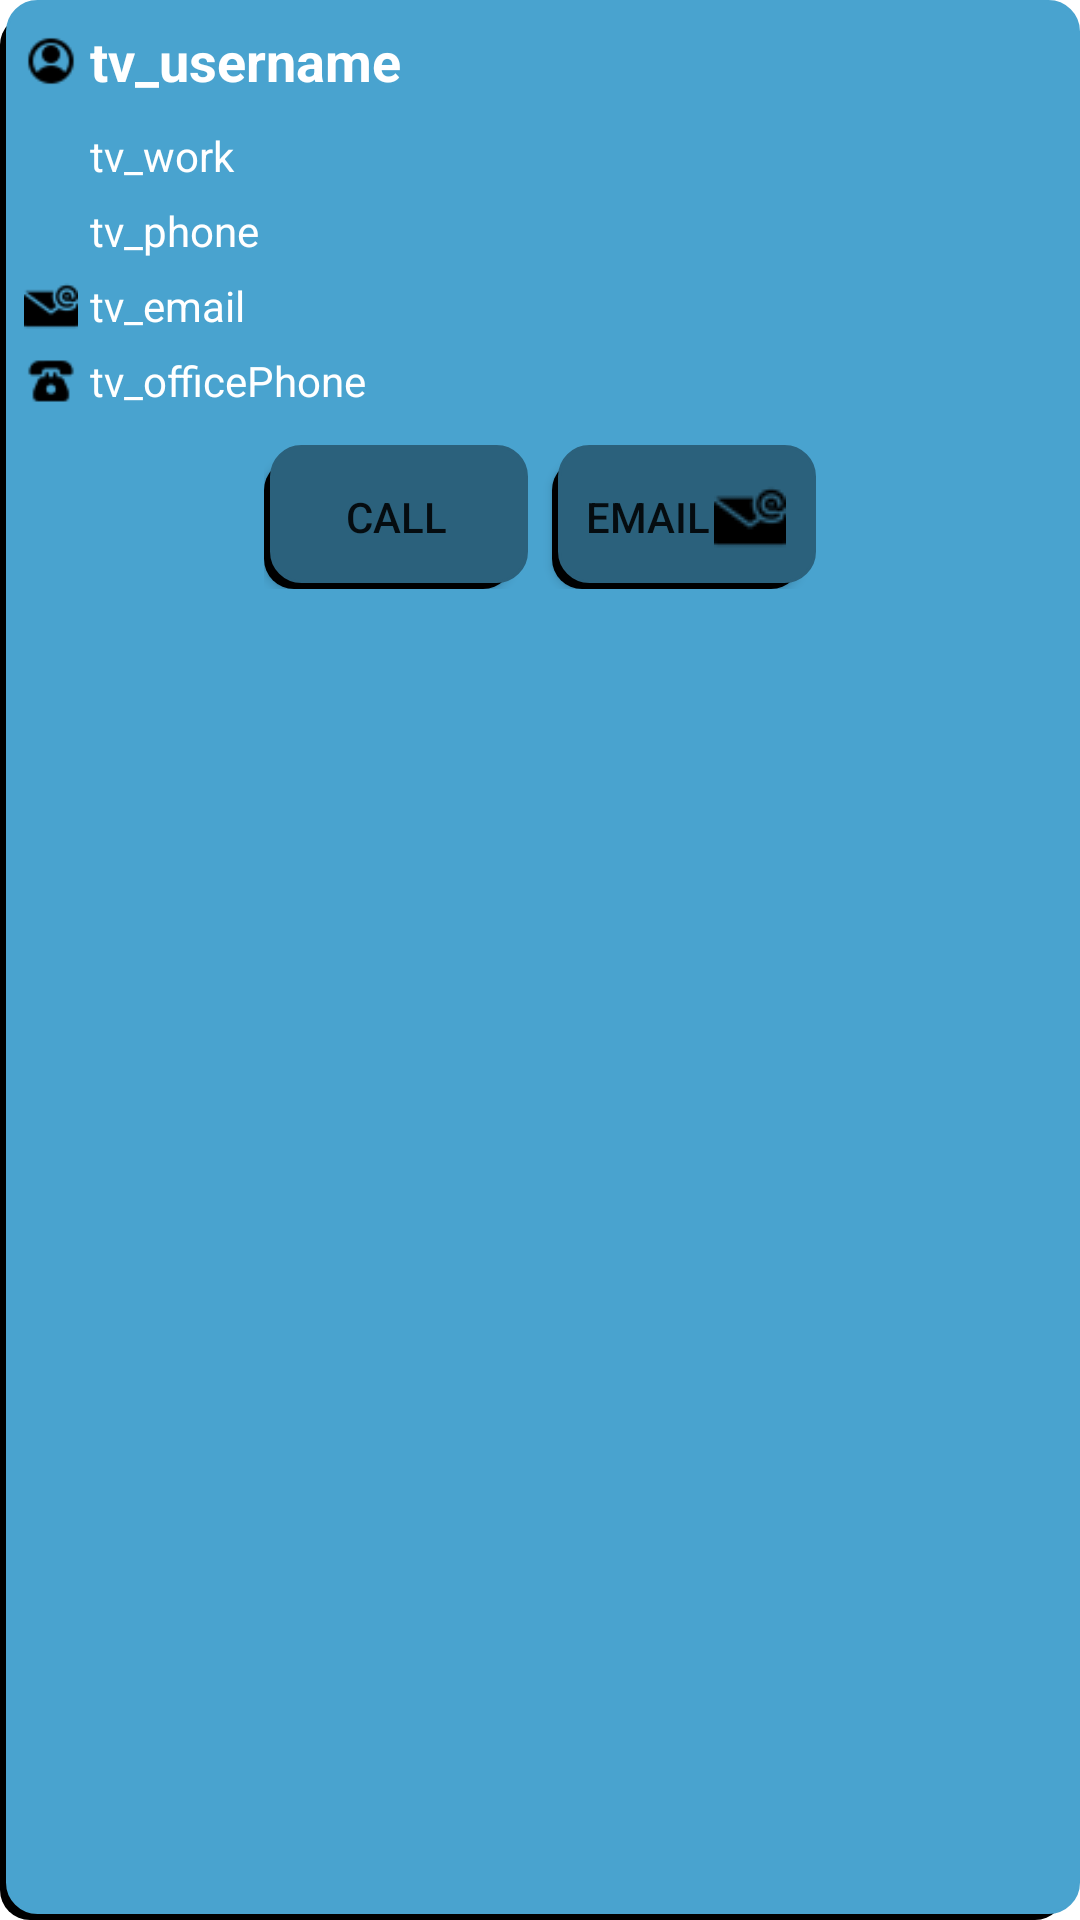

Named icons in this screenshot (1080 × 1920) and their bounding boxes, box=[x1, y1, x2, y2]:
officehone: box=[28, 360, 74, 402]
